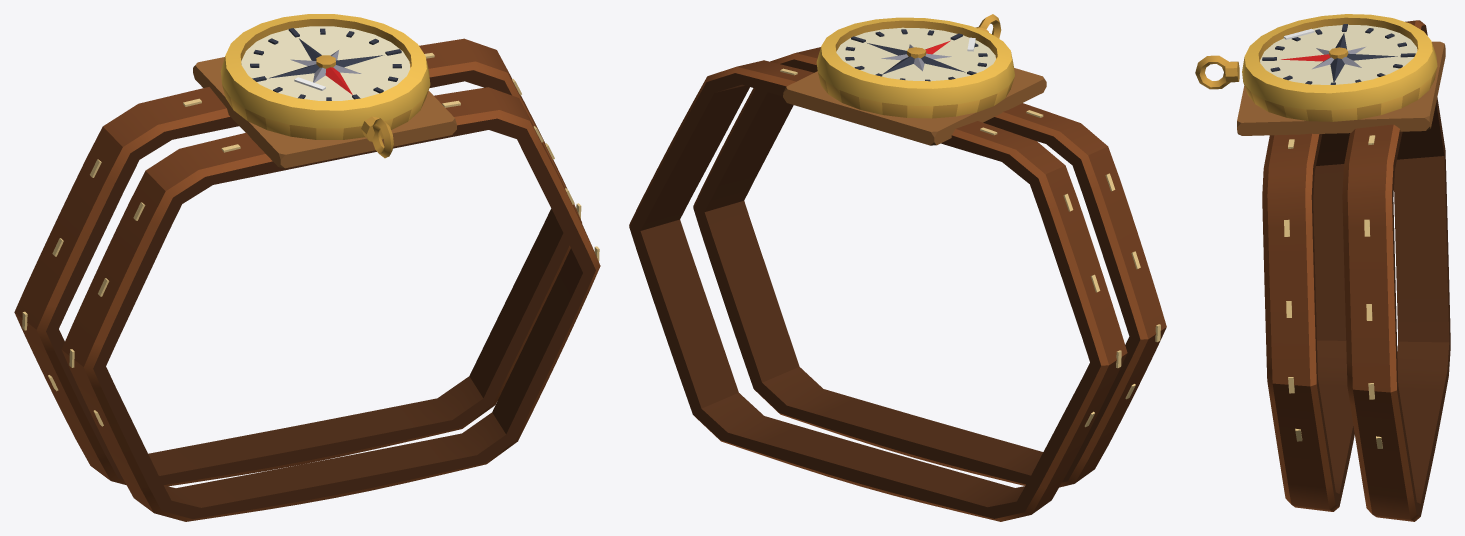
File: Wrist_Compass.fbx
3 renders of one model, left to right at view 1: azimuth 30°, elevation 25°; view 2: azimuth 150°, elevation 25°; view 3: azimuth 270°, elevation 25°, orthographic. The views are drawn at different scales.
Visible parts, largest first — view 1: Wrist_Compass; view 2: Wrist_Compass; view 3: Wrist_Compass.
Boxes of the visible parts, x1=… form: Wrist_Compass: x1=14, y1=14, x2=600, y2=521; Wrist_Compass: x1=629, y1=14, x2=1166, y2=521; Wrist_Compass: x1=1195, y1=14, x2=1450, y2=521.
Size of the model in its own units: 0.4754 by 0.3675 by 0.2108.
Materials: 1 (1 with a texture image).
